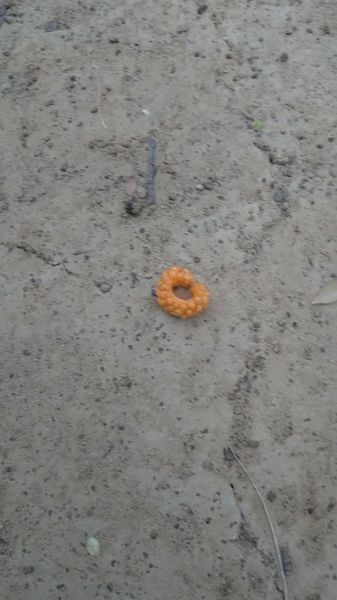eggs: (151, 259, 220, 331)
